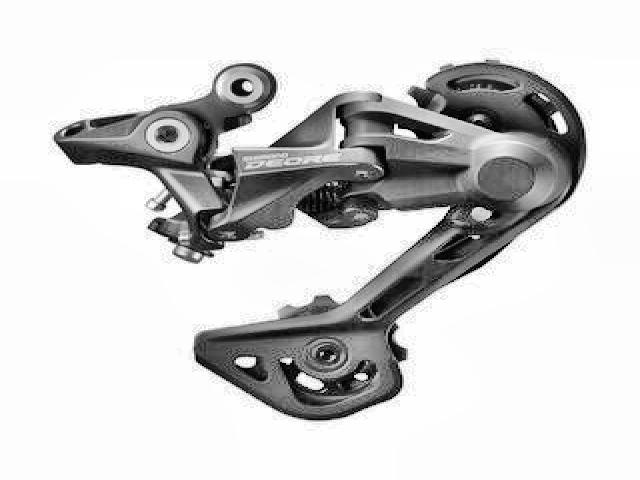rear_derailleur: (51, 52, 590, 426)
